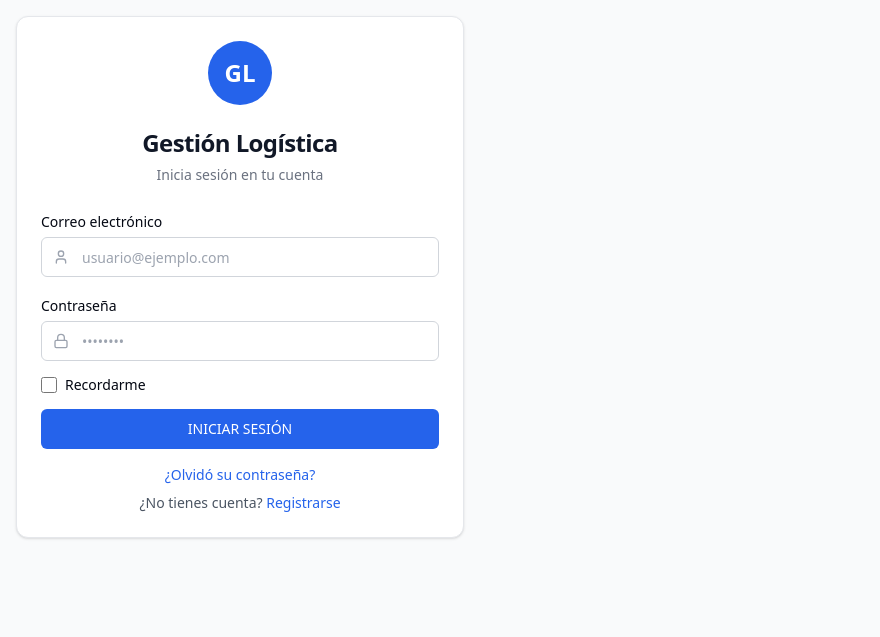
Login component › R25 - debe mostrar Toast de error cuando el servidor devuelve 401
In the field labelled "Correo electrónico": (240, 257) [41,237,439,277], type "bad@test.com"
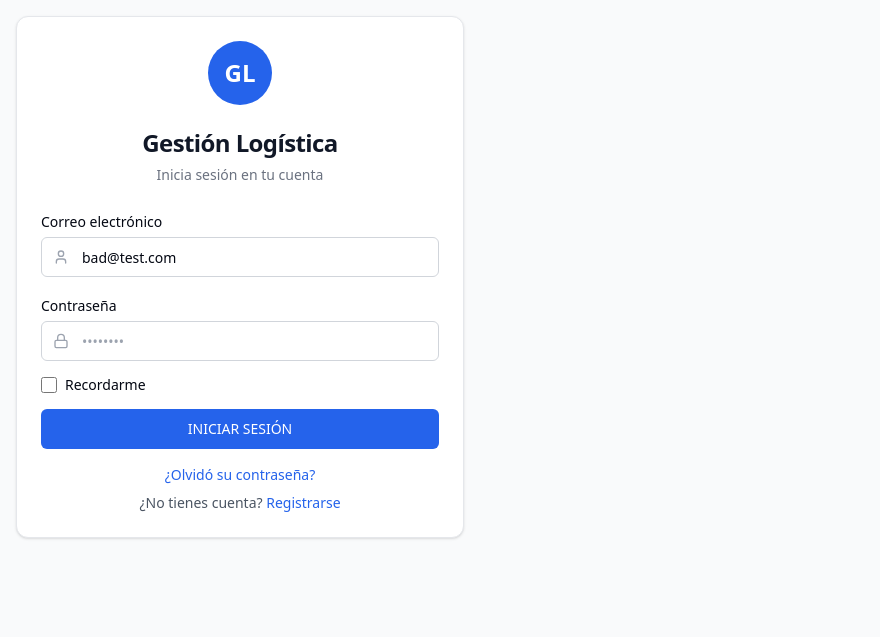
In the password field labelled "Contraseña": (240, 341) [41,321,439,361], type "wrongpass"
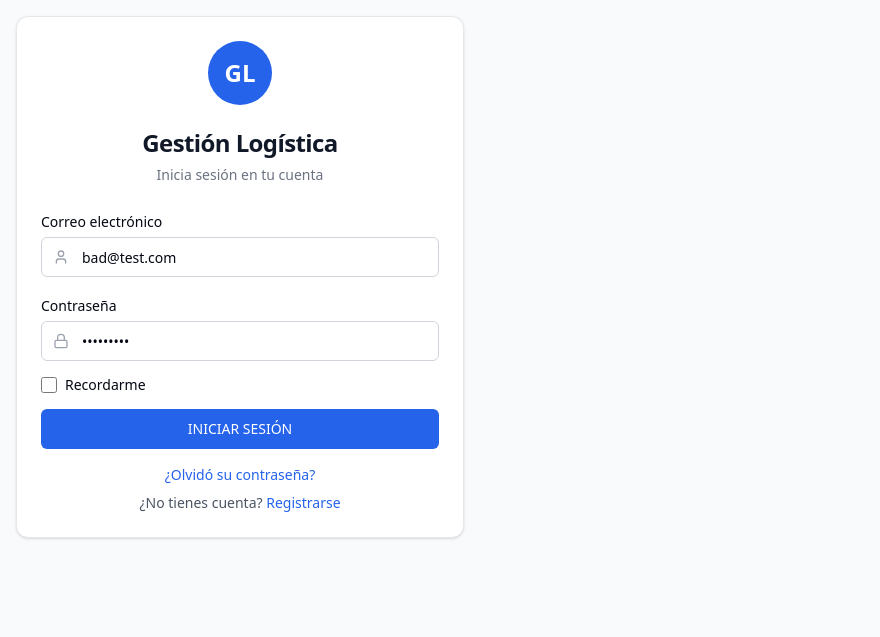
Click the button "INICIAR SESIÓN": (240, 429) [41,409,439,449]
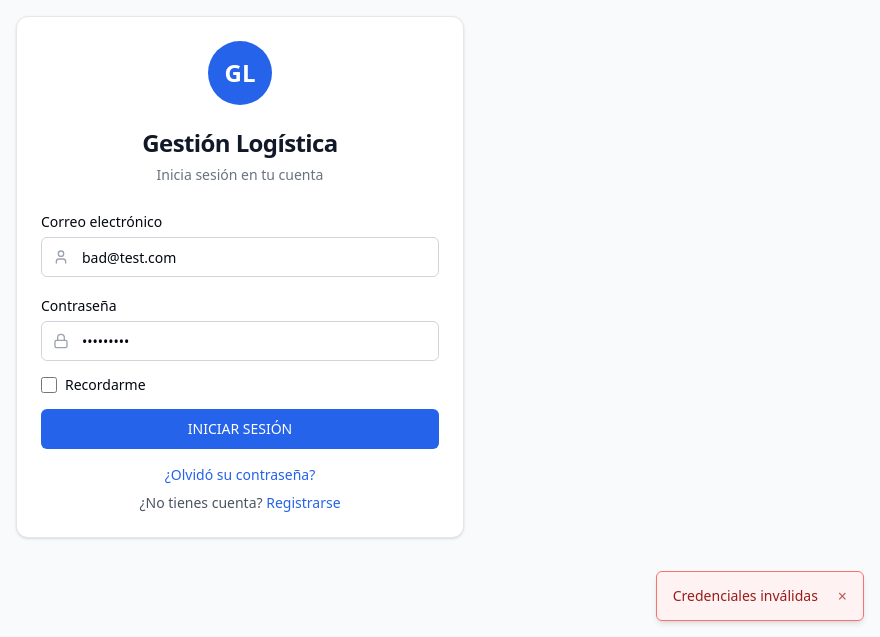
Now the message "Credenciales inválidas ×" is shown, box [656,571,864,621]
Now the message shows "Credenciales inválidas", box [673,586,818,605]
